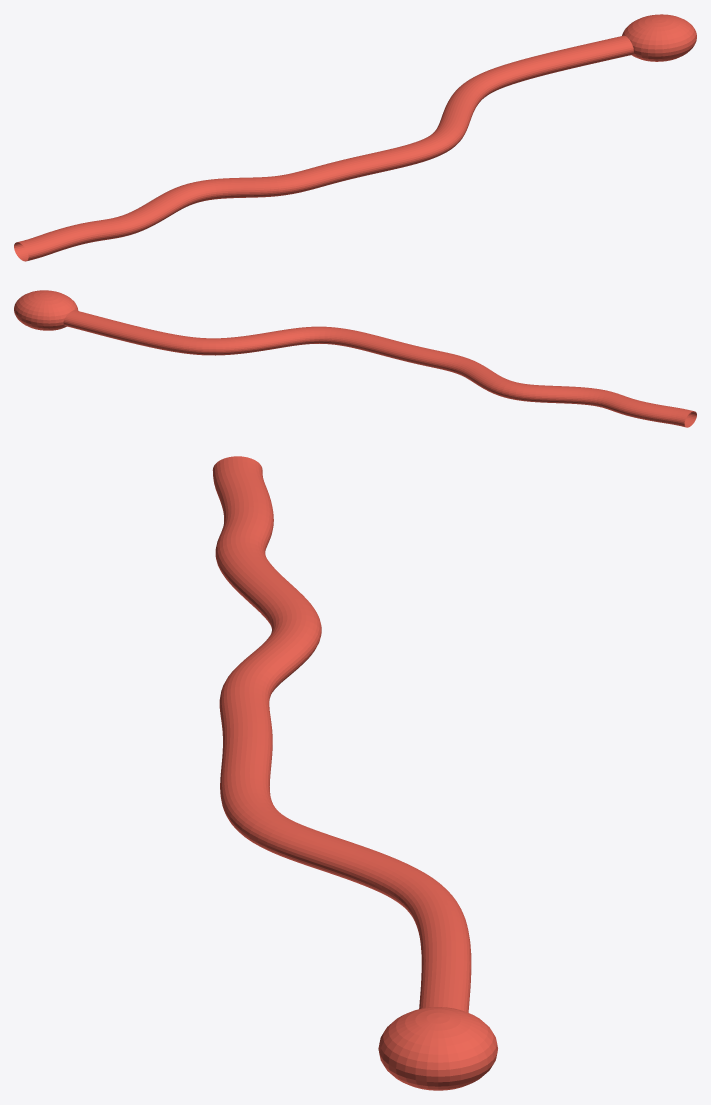
Rendered from BasePath.fbx.
3 views of the same model, one above another, from view 1: azimuth 30°, elevation 25°; view 2: azimuth 150°, elevation 25°; view 3: azimuth 270°, elevation 25° (orthographic). The views are drawn at different scales.
Visible parts, largest first — view 1: Vein, BossRoom1; view 2: Vein, BossRoom1; view 3: Vein, BossRoom1.
Part boxes in pixels (<box>): Vein: <box>14,35,633,261</box>; BossRoom1: <box>622,14,696,61</box>; Vein: <box>63,310,696,427</box>; BossRoom1: <box>14,290,78,330</box>; Vein: <box>212,456,471,1012</box>; BossRoom1: <box>378,1007,497,1090</box>.
Size of the model in its own units: 431 by 20.64 by 85.43.
